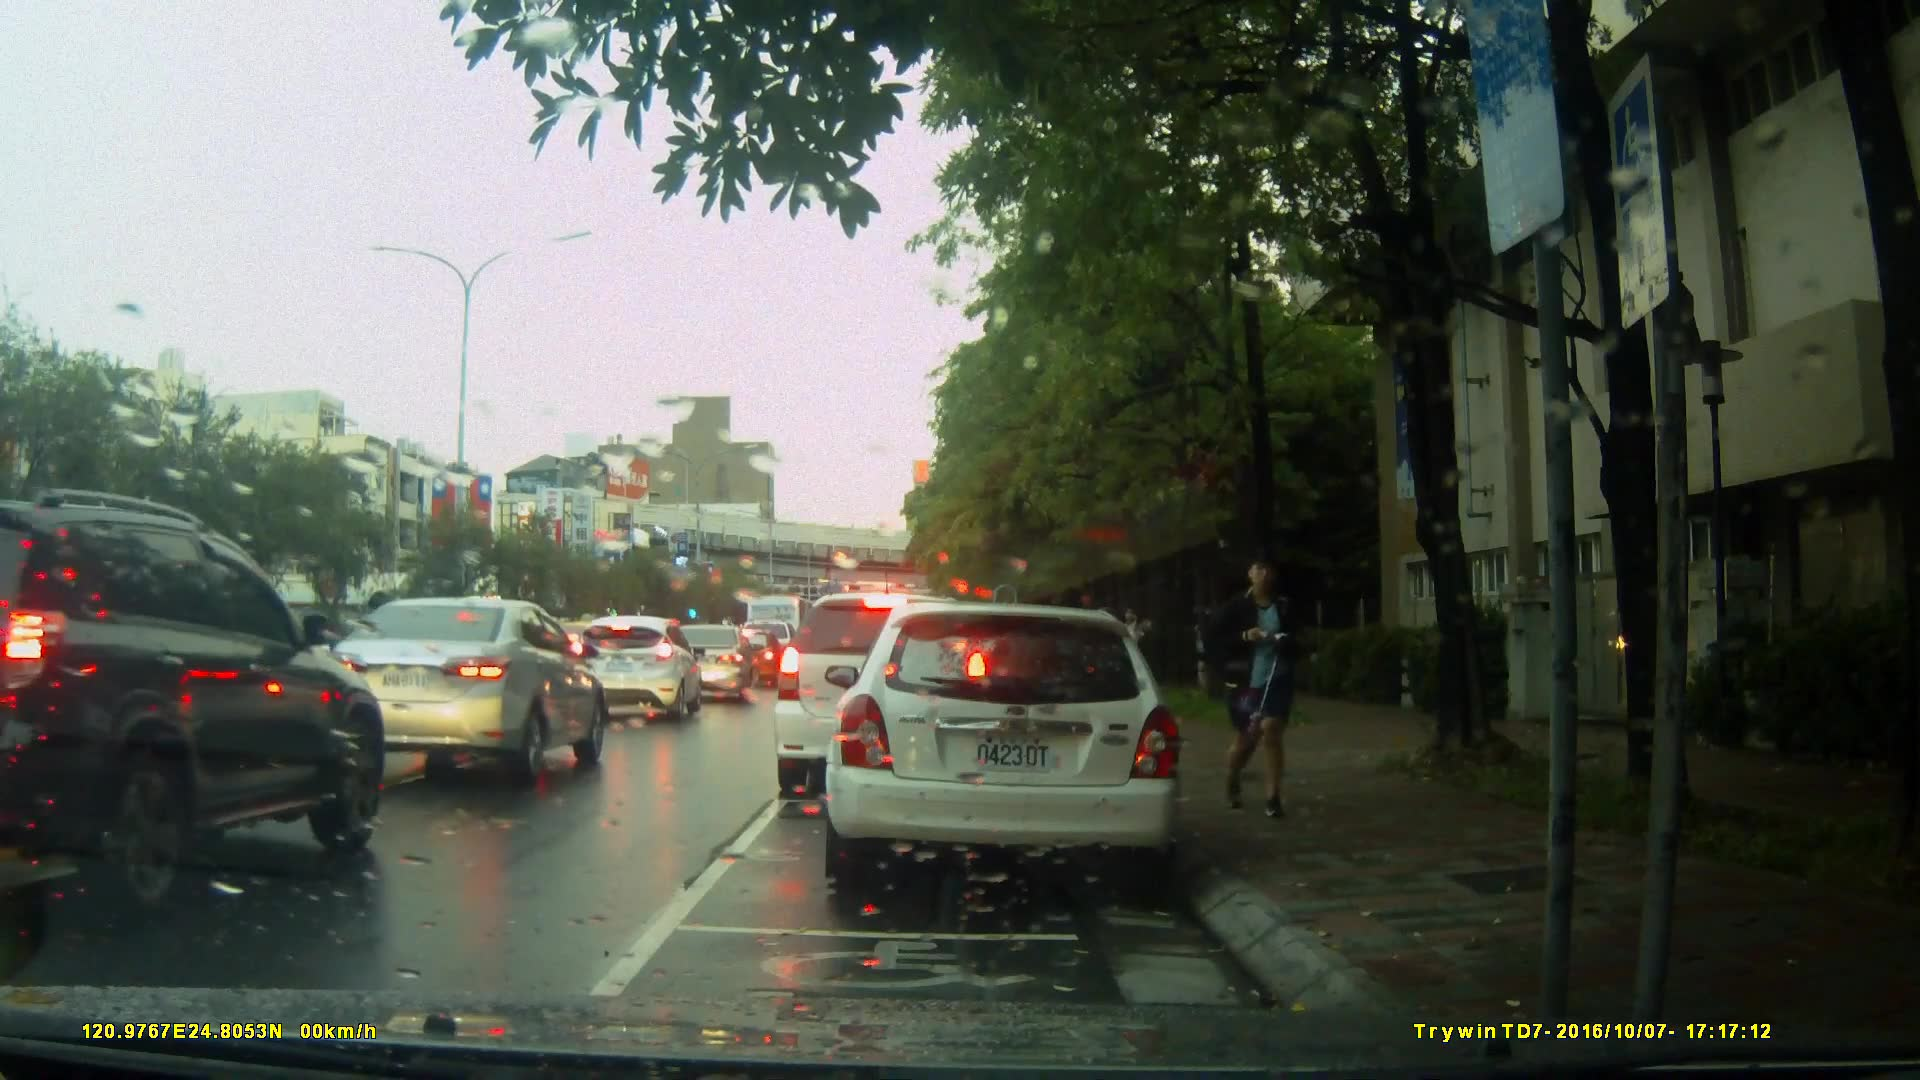pedestrian: (1193, 555, 1321, 826), (1109, 588, 1145, 730)
vehicle: (1, 485, 388, 931), (815, 593, 1198, 891), (322, 597, 609, 789), (770, 590, 995, 802), (566, 612, 704, 724), (668, 624, 756, 700)
